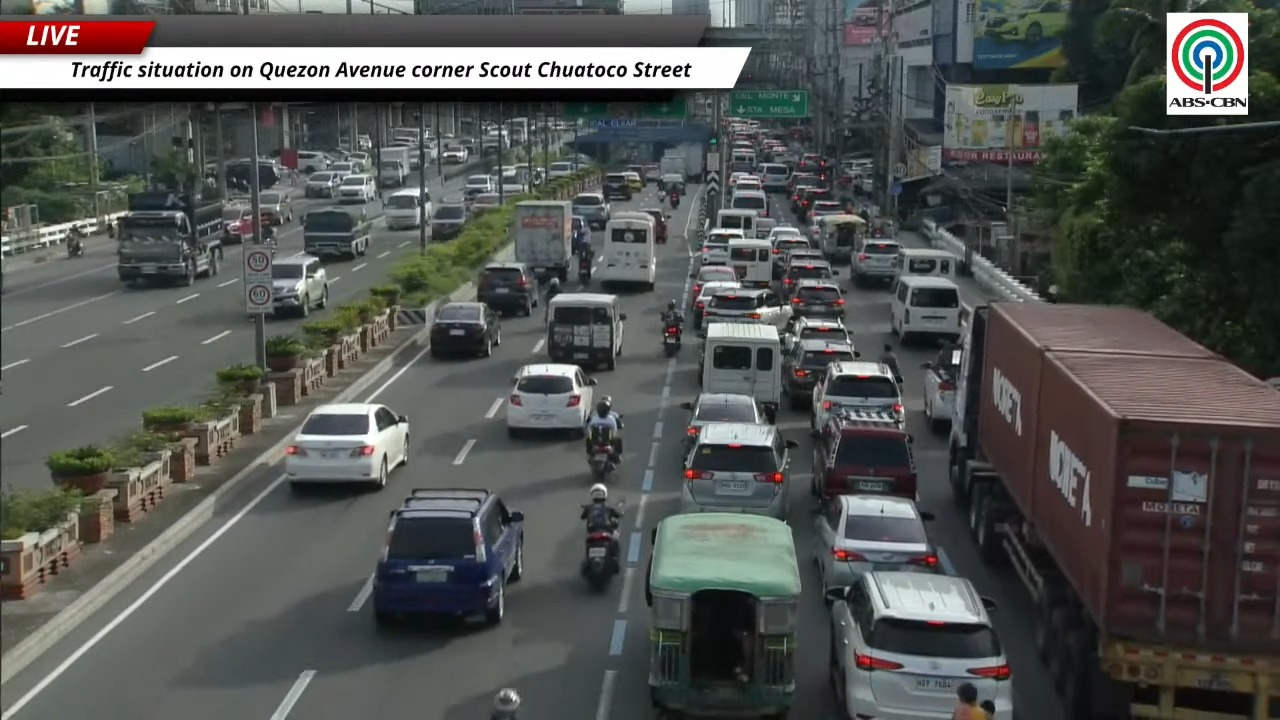bus: (595, 211, 656, 290)
car: (827, 571, 1013, 719), (371, 488, 524, 626), (813, 495, 940, 594), (681, 422, 797, 519), (284, 403, 409, 489), (811, 408, 917, 499), (506, 363, 596, 437), (811, 360, 904, 429), (782, 335, 858, 409), (681, 393, 770, 455), (429, 302, 500, 357), (982, 0, 1068, 44), (702, 288, 791, 329), (272, 255, 328, 317), (922, 347, 961, 432), (477, 263, 537, 315), (691, 279, 741, 329), (781, 256, 837, 300), (782, 316, 852, 351), (850, 238, 901, 286), (790, 279, 844, 317), (771, 228, 811, 278), (690, 265, 737, 301), (699, 228, 744, 265), (790, 174, 820, 220), (571, 193, 610, 228), (793, 187, 833, 221), (431, 204, 469, 239), (222, 205, 253, 243), (338, 174, 377, 203), (259, 191, 292, 225), (783, 246, 829, 270), (640, 208, 670, 243), (304, 170, 340, 197), (602, 173, 633, 200), (463, 174, 495, 200), (296, 150, 331, 173), (471, 193, 501, 215), (767, 225, 802, 243), (809, 201, 845, 217), (440, 145, 468, 163), (329, 160, 359, 176), (548, 161, 574, 179), (734, 175, 763, 191), (728, 171, 753, 189), (623, 171, 644, 191), (643, 164, 661, 183)
motorcycle: (581, 525, 620, 591), (588, 433, 616, 483), (662, 324, 681, 356), (578, 256, 591, 285), (67, 238, 83, 257), (668, 193, 679, 209)
truck: (949, 302, 1279, 719), (117, 190, 223, 286), (510, 200, 572, 282), (303, 206, 372, 259), (659, 143, 705, 183), (376, 147, 410, 186)
